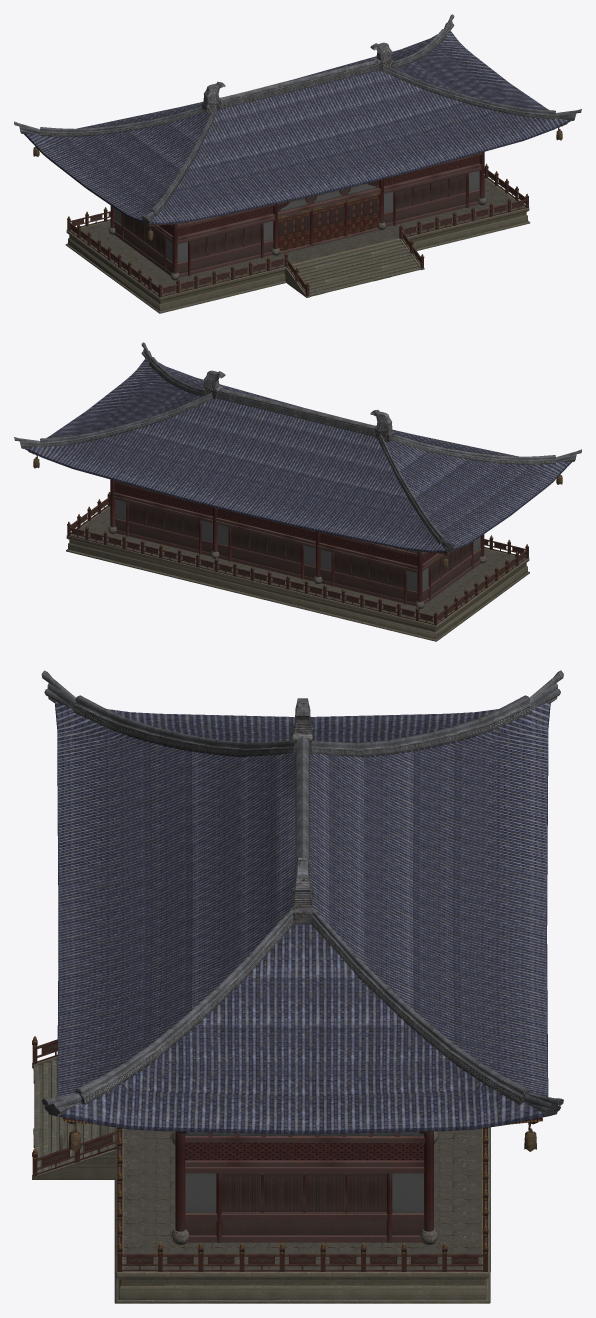
The model's file is cn_ancient_a.glb.
3 views of the same model, one above another, from view 1: azimuth 30°, elevation 25°; view 2: azimuth 150°, elevation 25°; view 3: azimuth 270°, elevation 25° (orthographic). The views are drawn at different scales.
Parts seen in each view (by area): view 1: KF_Building_017b04_0, KF_Building_017b04_1, KF_Building_017b04_3, KF_Building_017b04_2, KF_Building_017b04_4; view 2: KF_Building_017b04_0, KF_Building_017b04_1, KF_Building_017b04_2, KF_Building_017b04_3, KF_Building_017b04_4; view 3: KF_Building_017b04_0, KF_Building_017b04_1, KF_Building_017b04_3, KF_Building_017b04_4, KF_Building_017b04_2.
Boxes of the visible parts, x1=… form: KF_Building_017b04_0: x1=14, y1=14, x2=581, y2=226; KF_Building_017b04_1: x1=33, y1=126, x2=562, y2=297; KF_Building_017b04_3: x1=65, y1=175, x2=530, y2=313; KF_Building_017b04_2: x1=113, y1=152, x2=481, y2=277; KF_Building_017b04_4: x1=72, y1=179, x2=523, y2=295; KF_Building_017b04_0: x1=14, y1=342, x2=581, y2=554; KF_Building_017b04_1: x1=33, y1=454, x2=562, y2=625; KF_Building_017b04_2: x1=112, y1=480, x2=481, y2=606; KF_Building_017b04_3: x1=66, y1=506, x2=529, y2=641; KF_Building_017b04_4: x1=72, y1=507, x2=523, y2=623; KF_Building_017b04_0: x1=41, y1=670, x2=563, y2=1134; KF_Building_017b04_1: x1=32, y1=1036, x2=538, y2=1271; KF_Building_017b04_3: x1=32, y1=1056, x2=490, y2=1303; KF_Building_017b04_4: x1=123, y1=1128, x2=481, y2=1269; KF_Building_017b04_2: x1=185, y1=1131, x2=425, y2=1242.
Bounding box in the file's own units: 40.15 × 14.9 × 21.
5 materials, 5 textured.
